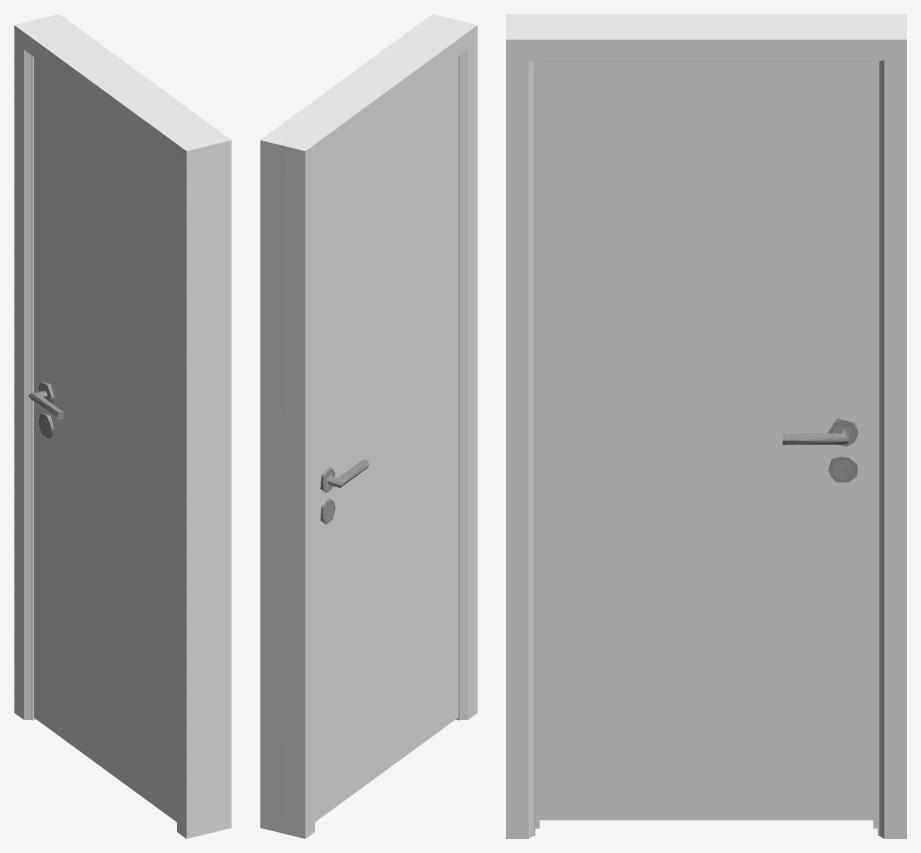
File: Door0010.obj
The picture shows the model from 3 angles, left to right: view 1: azimuth 30°, elevation 25°; view 2: azimuth 150°, elevation 25°; view 3: azimuth 270°, elevation 25°; orthographic projection. The views are drawn at different scales.
Bounding box in the file's own units: 0.181 × 2.12 × 0.964.
Materials: 1 (1 with a texture image).
